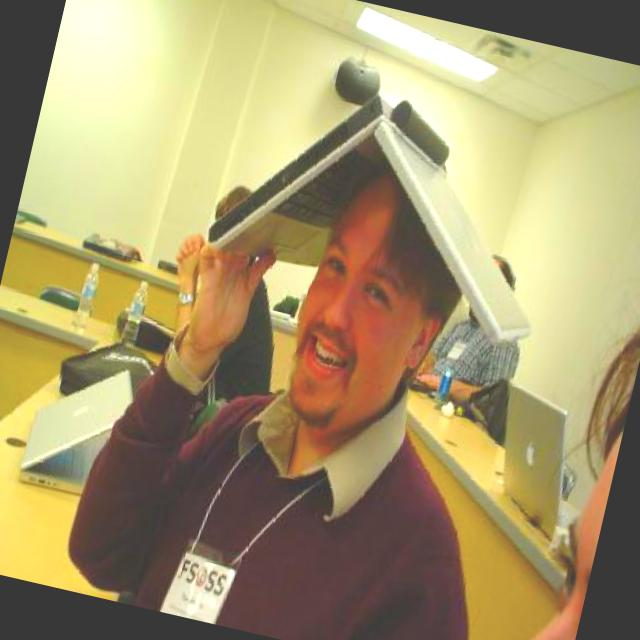Person: (55, 113, 570, 640), (462, 258, 640, 640), (141, 170, 314, 424), (410, 242, 542, 420)
